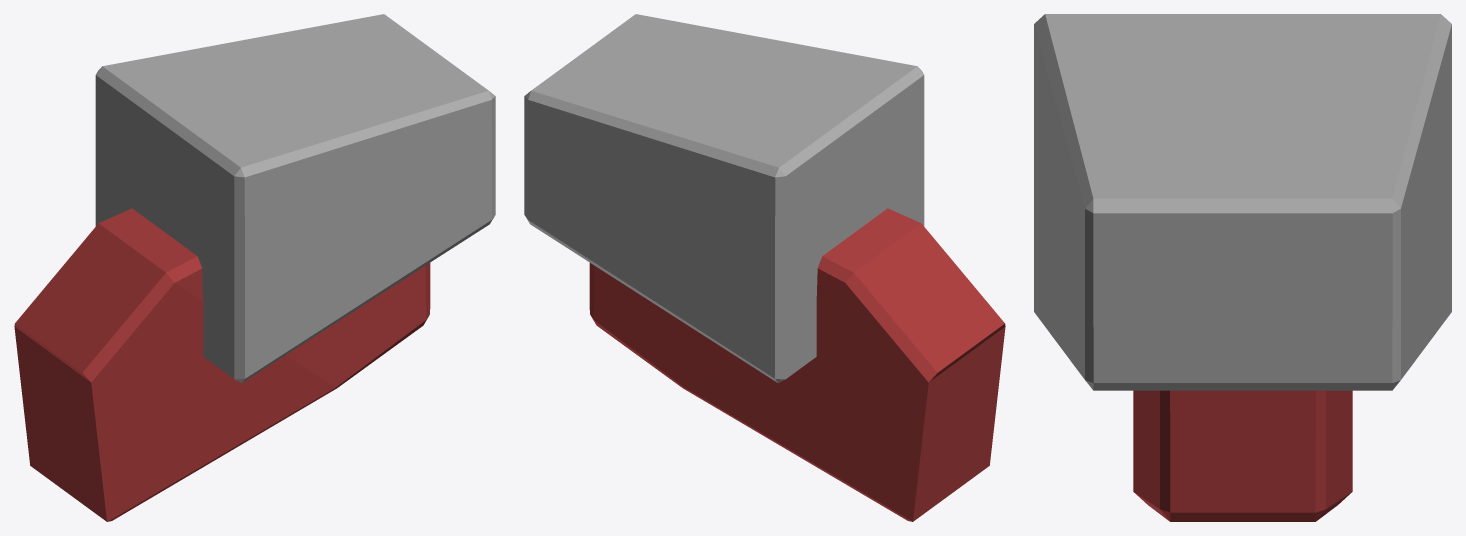
The model's file is SM_Trim_02.fbx.
3 renders of one model, left to right at view 1: azimuth 30°, elevation 25°; view 2: azimuth 150°, elevation 25°; view 3: azimuth 270°, elevation 25°, orthographic. The views are drawn at different scales.
Visible parts, largest first — view 1: SM_Trim_02; view 2: SM_Trim_02; view 3: SM_Trim_02.
Boxes of the visible parts, box(x1,y1,x2,y2) form: SM_Trim_02: box(14, 14, 495, 521); SM_Trim_02: box(524, 14, 1005, 521); SM_Trim_02: box(1034, 14, 1451, 521).
Bounding box in the file's own units: 327 × 282 × 210.
